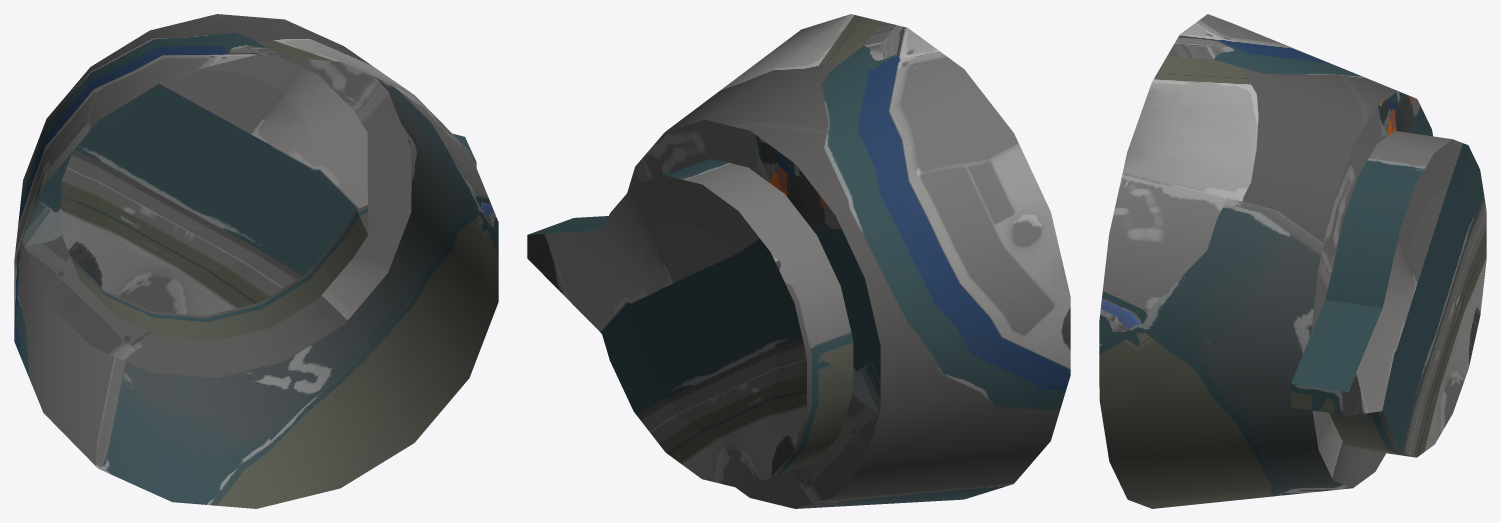
File: RadioKnob.fbx
3 renders of one model, left to right at view 1: azimuth 30°, elevation 25°; view 2: azimuth 150°, elevation 25°; view 3: azimuth 270°, elevation 25°, orthographic.
Parts seen in each view (by area): view 1: radioVol_v1; view 2: radioVol_v1; view 3: radioVol_v1.
Part boxes in pixels (box(x1,y1,x2,y2)): radioVol_v1: box(14, 14, 498, 508); radioVol_v1: box(527, 14, 1070, 508); radioVol_v1: box(1099, 14, 1486, 508).
Size of the model in its own units: 0.5694 by 0.4995 by 0.3861.
